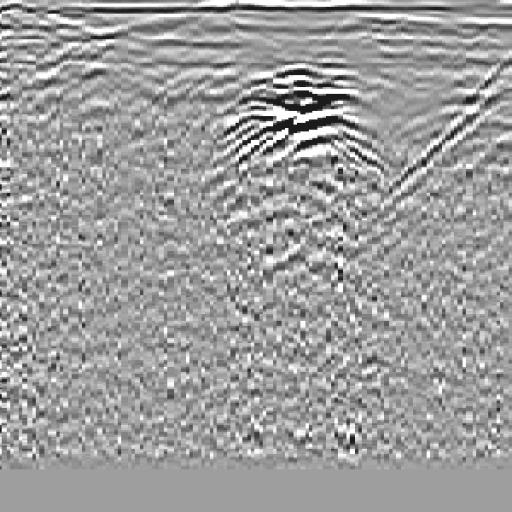metalic: (189, 45, 445, 314)
